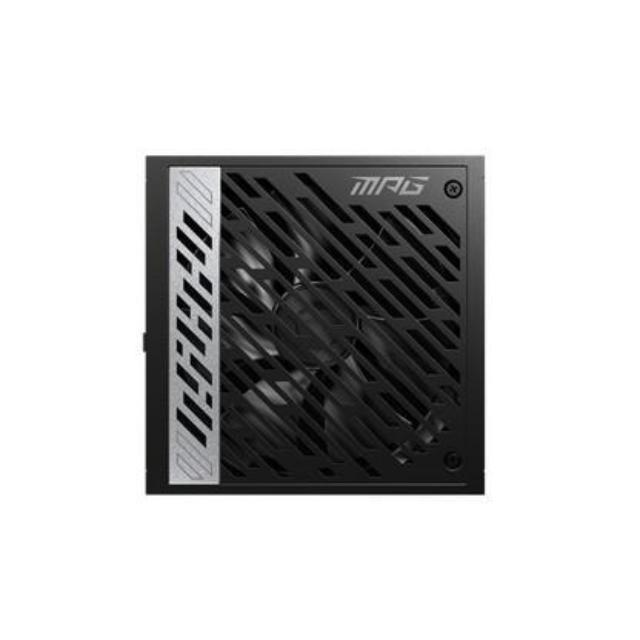PSU: (132, 144, 494, 512)
